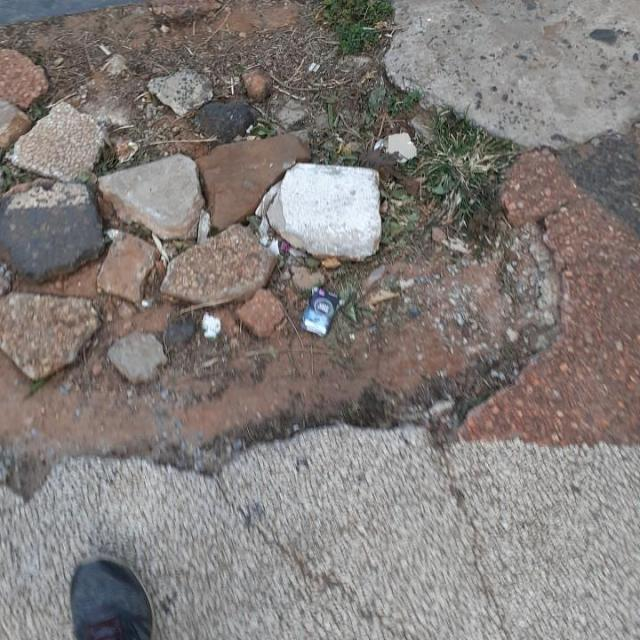litter: (300, 278, 351, 343)
